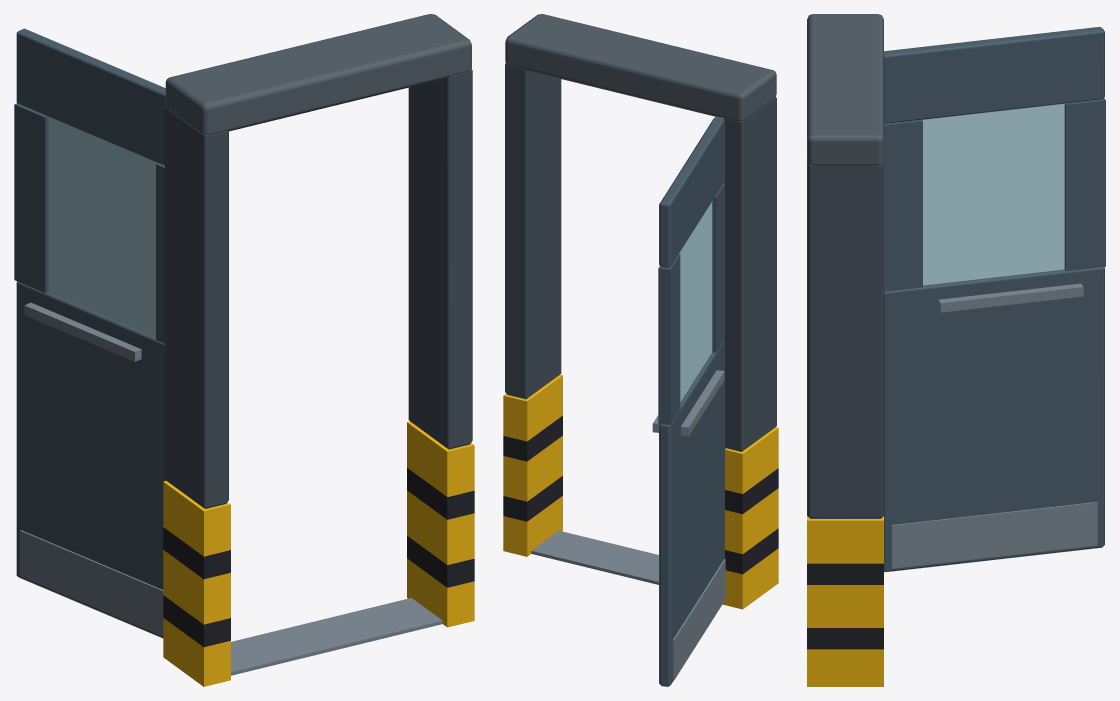
The model's file is wand_sockel_tuer.glb.
The picture shows the model from 3 angles, left to right: view 1: azimuth 30°, elevation 25°; view 2: azimuth 150°, elevation 25°; view 3: azimuth 270°, elevation 25°; orthographic projection. The views are drawn at different scales.
Visible parts, largest first — view 1: wand_sockel_tuer; view 2: wand_sockel_tuer; view 3: wand_sockel_tuer.
Part boxes in pixels (x1=…): wand_sockel_tuer: x1=14, y1=14, x2=474, y2=686; wand_sockel_tuer: x1=503, y1=14, x2=778, y2=686; wand_sockel_tuer: x1=807, y1=14, x2=1105, y2=686.
Bounding box in the file's own units: 1.14 × 2.05 × 1.01.
